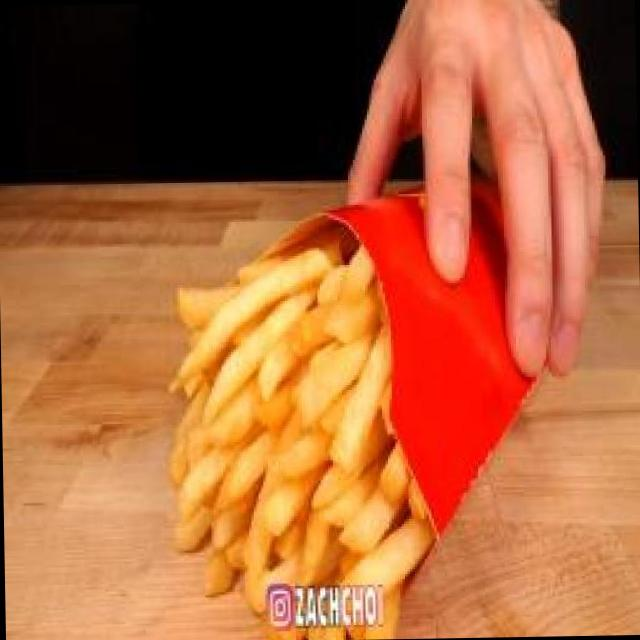french fries: (148, 207, 473, 640)
